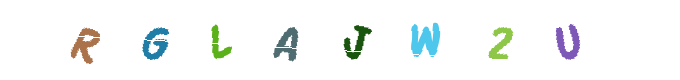2: (376, 0, 456, 80)
A: (300, 0, 380, 80)
G: (182, 0, 262, 80)
J: (317, 0, 397, 80)
L: (278, 0, 358, 80)
R: (45, 0, 125, 80)
U: (519, 0, 599, 80)
W: (336, 0, 416, 80)
